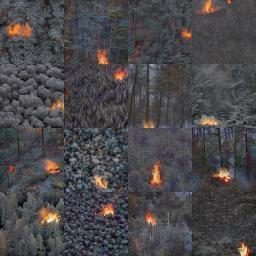Small fire: (141, 207, 162, 235), (196, 0, 235, 15), (37, 206, 63, 228), (147, 158, 165, 188), (212, 164, 234, 187), (47, 95, 69, 114), (43, 158, 65, 176), (110, 66, 130, 85), (7, 25, 34, 38), (91, 173, 112, 189), (94, 48, 113, 64), (98, 205, 118, 220), (236, 241, 256, 256), (139, 118, 162, 131), (201, 114, 218, 128), (181, 26, 194, 42), (7, 162, 17, 176)
